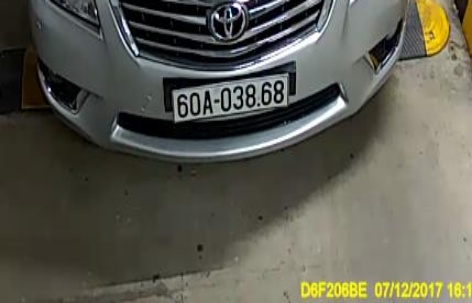plate: (163, 71, 299, 122)
